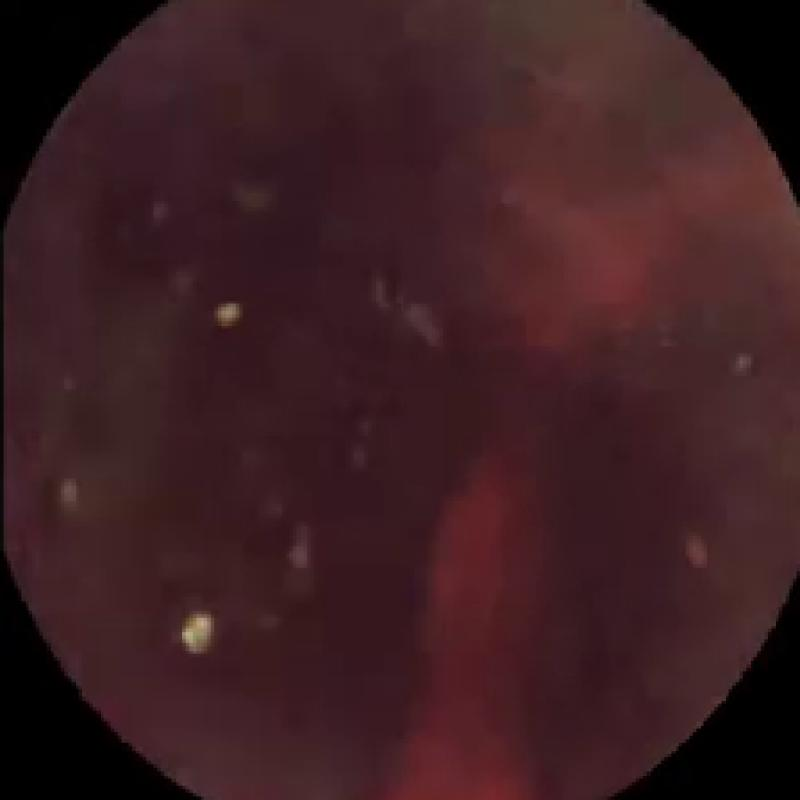bleeding: (387, 391, 557, 800), (429, 93, 675, 343)
